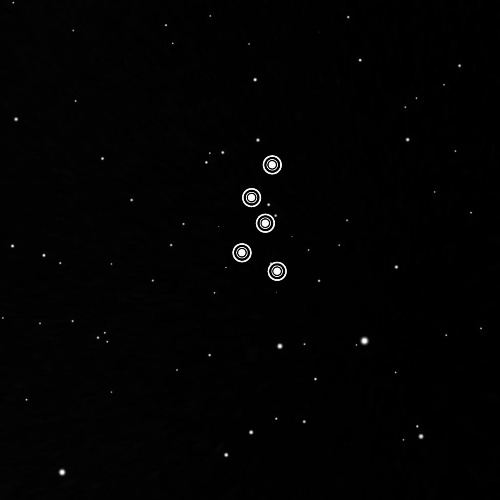cassiopeia: (220, 144, 306, 295)
